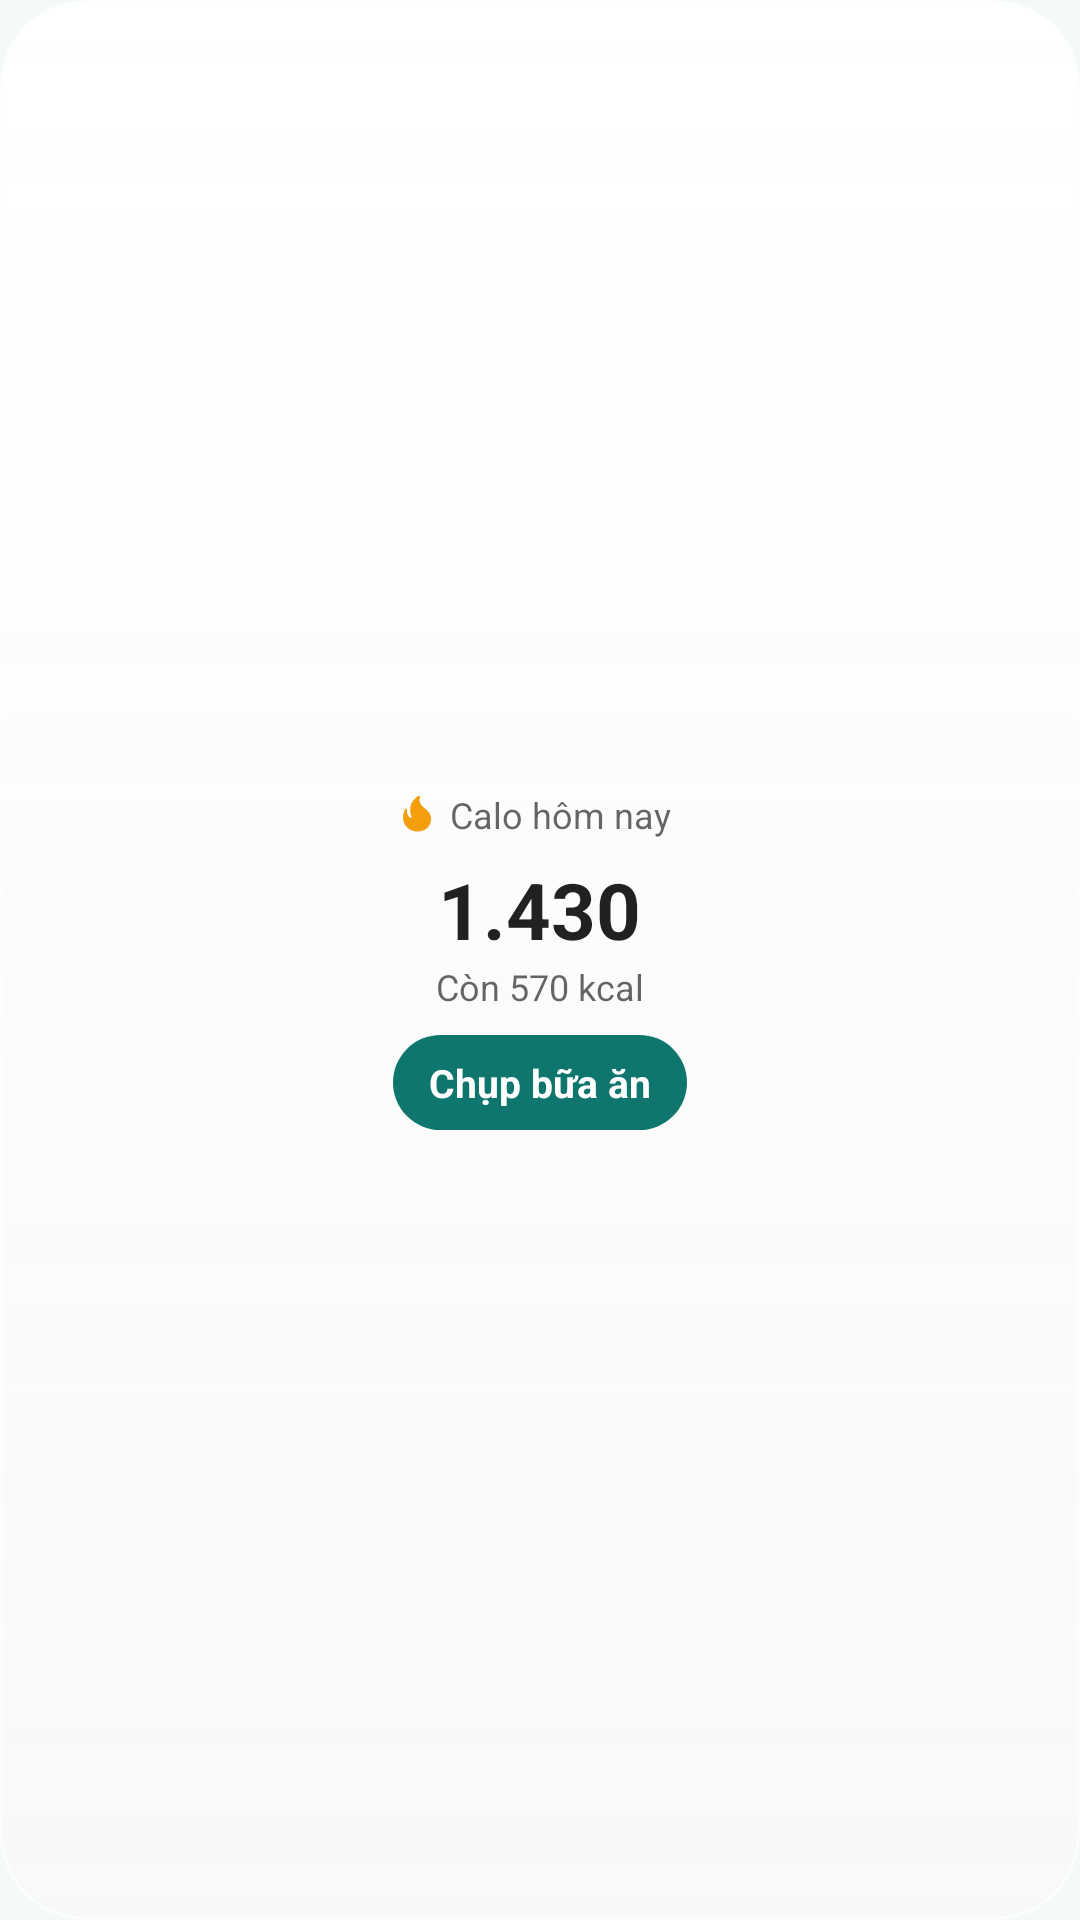

Icon click points for this 1080w x 1920h phone screenshot, format point (x, y):
widget flame: point (417, 813)
